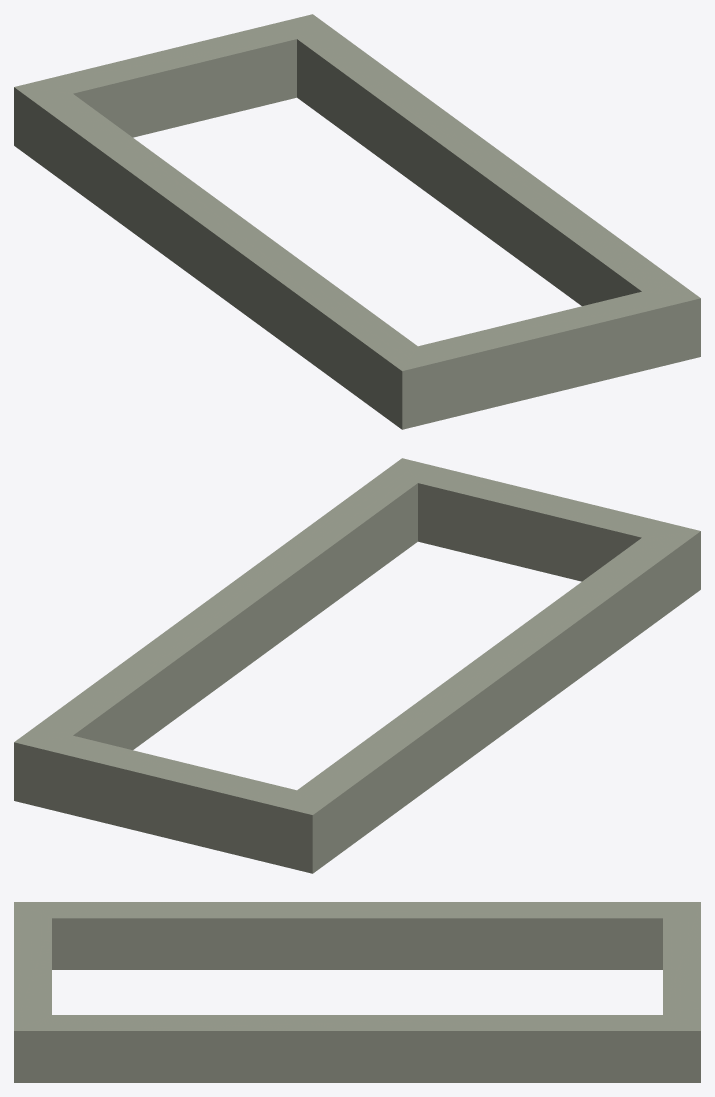
The model's file is LightFrame.obj.
The picture shows the model from 3 angles, top to bottom: view 1: azimuth 30°, elevation 25°; view 2: azimuth 150°, elevation 25°; view 3: azimuth 270°, elevation 25°; orthographic projection. The views are drawn at different scales.
Bounding box in the file's own units: 1.6 × 0.3 × 3.6.
1 material, 1 textured.
